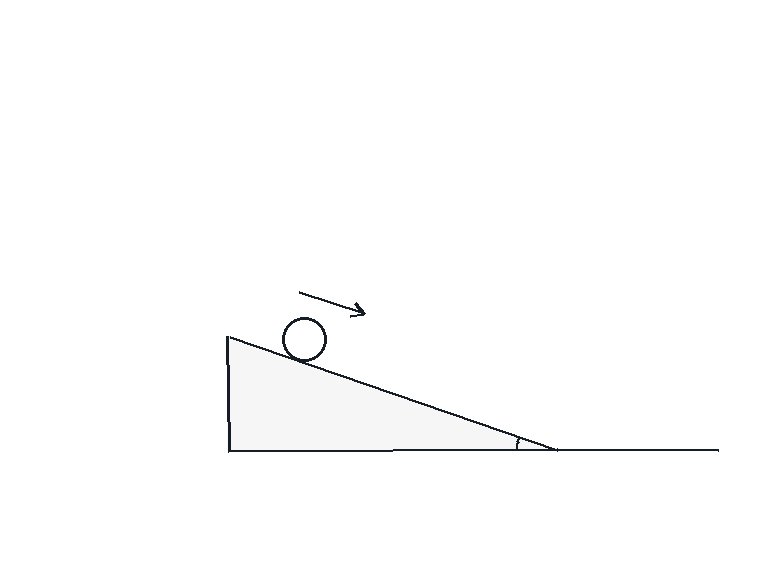ball: (280, 315, 328, 363)
ramp: (226, 334, 559, 451)
